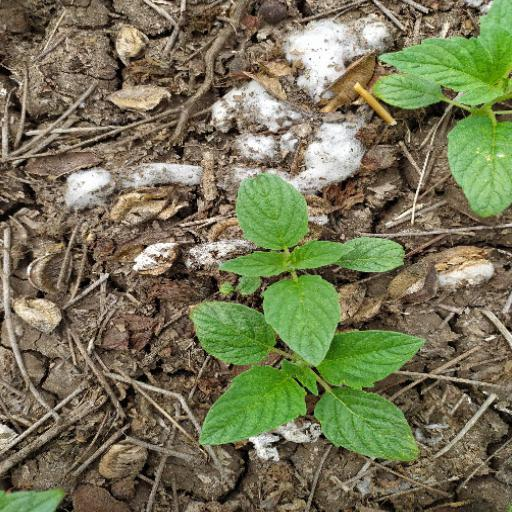crop: (186, 151, 434, 460), (364, 1, 512, 230)
